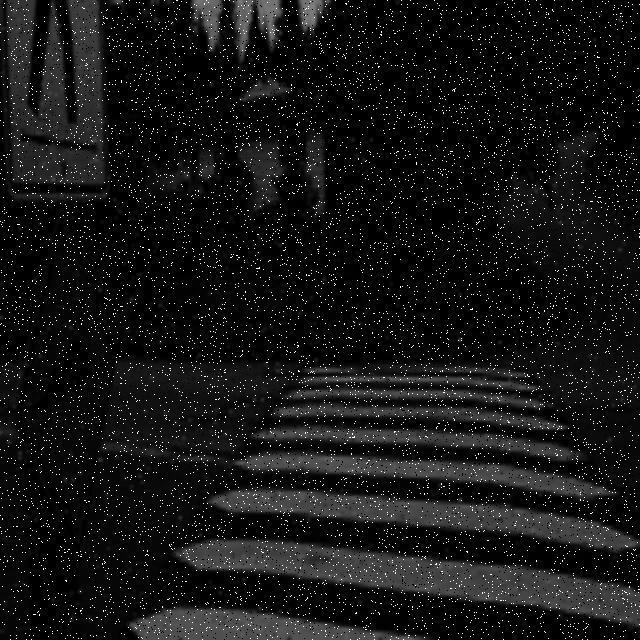Pedestrian crosswalk: (117, 356, 640, 636)
